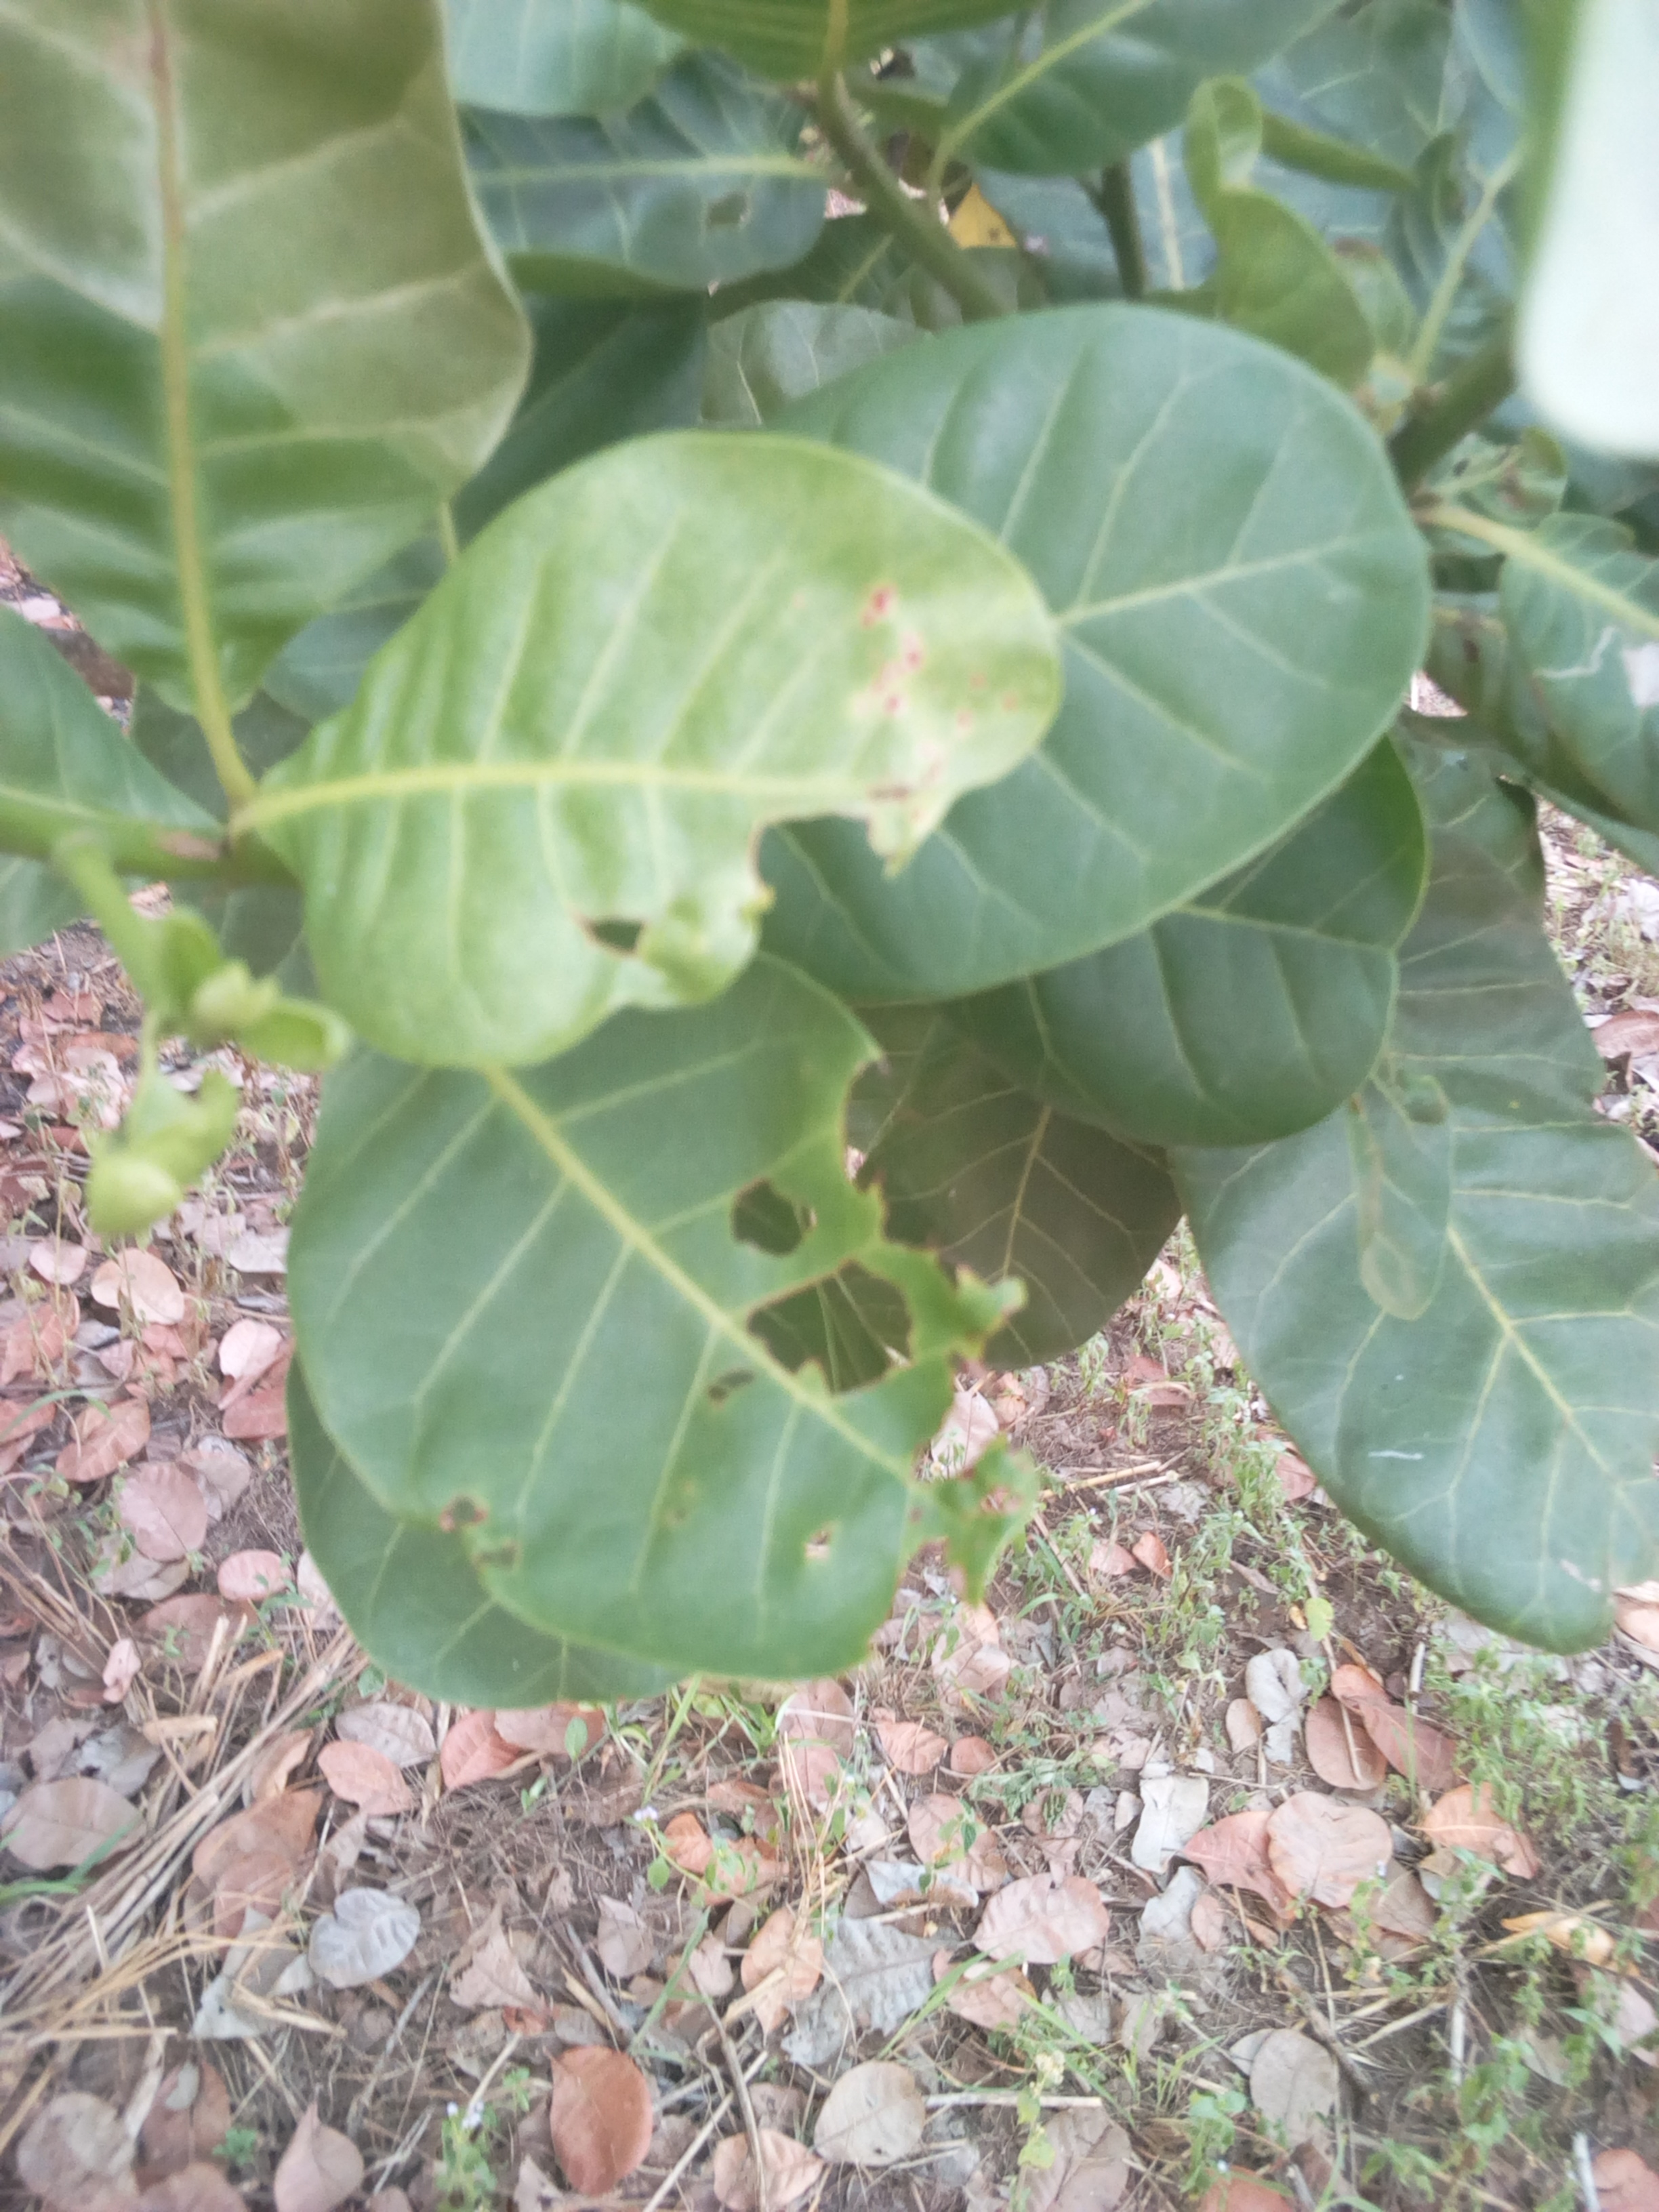Anoplocnemis curvipes: (281, 1106, 992, 1693), (349, 557, 976, 1014)
